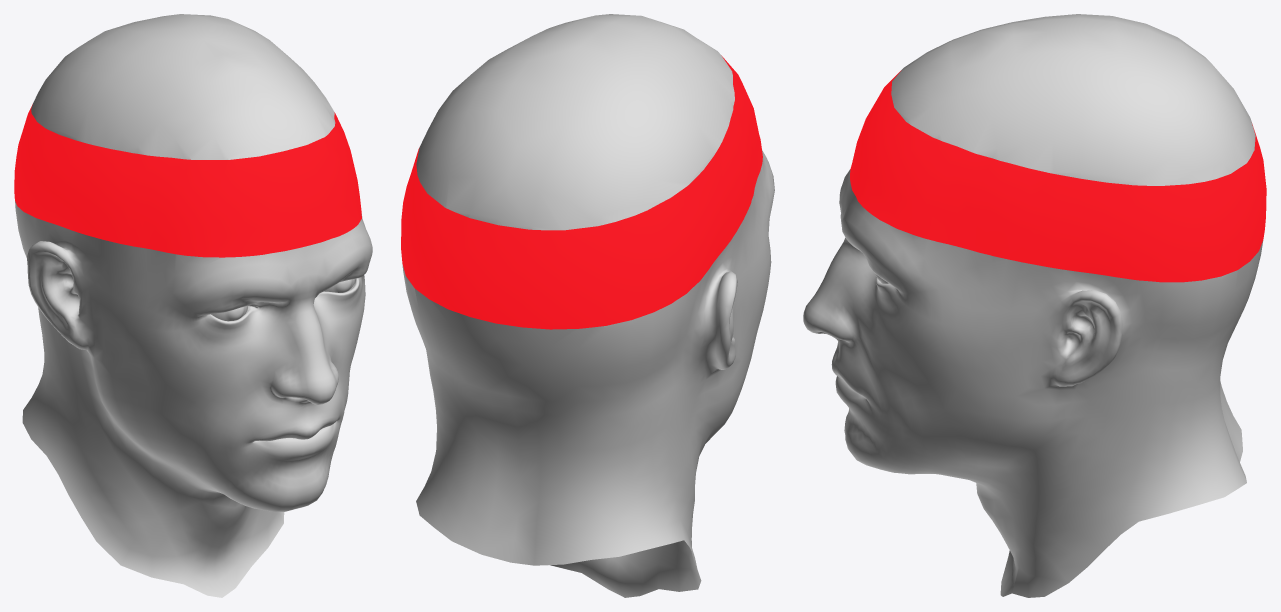
Rendered from Tension.glb.
3 views of the same model, side by side, from view 1: azimuth 30°, elevation 25°; view 2: azimuth 150°, elevation 25°; view 3: azimuth 270°, elevation 25° (orthographic). The views are drawn at different scales.
Parts seen in each view (by area): view 1: man_body_0014 uv map_Material.004_0.001, man_body_0014 uv map; view 2: man_body_0014 uv map_Material.004_0.001, man_body_0014 uv map; view 3: man_body_0014 uv map_Material.004_0.001, man_body_0014 uv map.
Boxes of the visible parts, x1,y1,x2,y2 form: man_body_0014 uv map_Material.004_0.001: [15, 14, 372, 597]; man_body_0014 uv map: [14, 104, 361, 257]; man_body_0014 uv map_Material.004_0.001: [402, 14, 774, 597]; man_body_0014 uv map: [401, 55, 762, 329]; man_body_0014 uv map_Material.004_0.001: [803, 14, 1263, 597]; man_body_0014 uv map: [850, 70, 1266, 282].
Bounding box in the file's own units: 0.1766 × 0.3089 × 0.2292.
